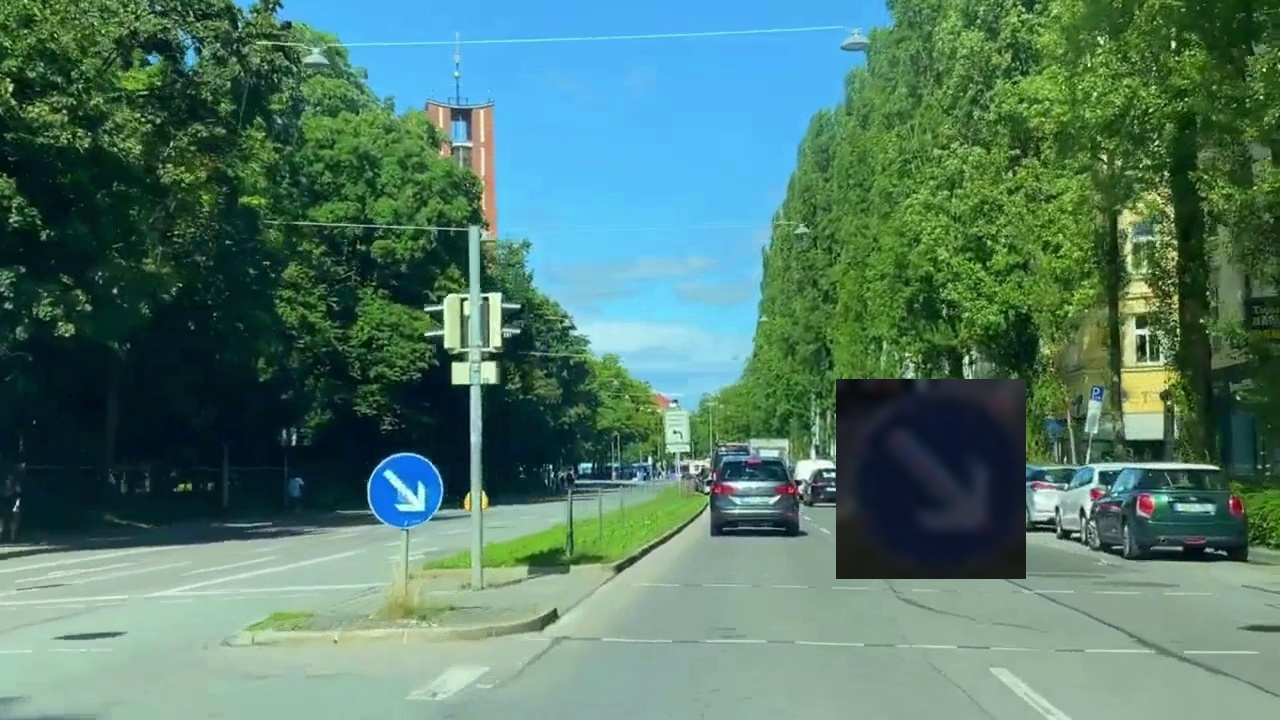Keep right: (836, 379, 1026, 579)
